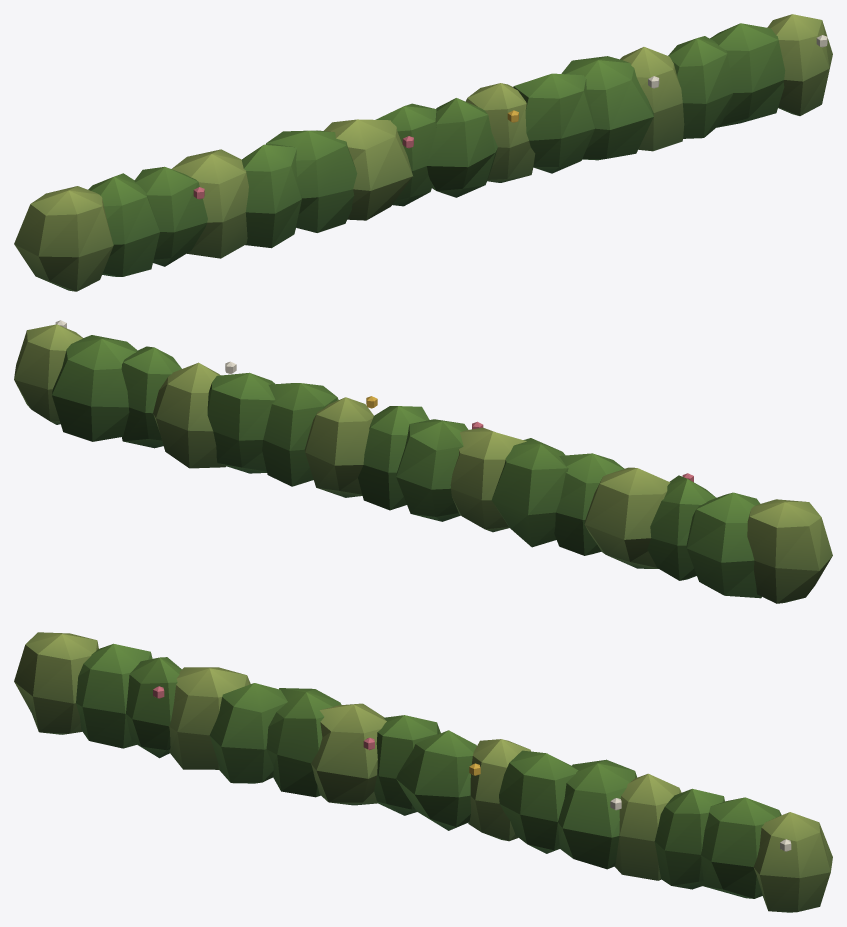
File: scene_hedge_0.glb
The picture shows the model from 3 angles, top to bottom: view 1: azimuth 30°, elevation 25°; view 2: azimuth 150°, elevation 25°; view 3: azimuth 330°, elevation 25°; orthographic projection.
Visible parts, largest first — view 1: scene_hedge_0; view 2: scene_hedge_0; view 3: scene_hedge_0.
Part boxes in pixels (x1=…): scene_hedge_0: x1=14, y1=14, x2=832, y2=291; scene_hedge_0: x1=14, y1=320, x2=832, y2=603; scene_hedge_0: x1=14, y1=632, x2=832, y2=912.
Size of the model in its own units: 9.43 by 1.12 by 1.04.
